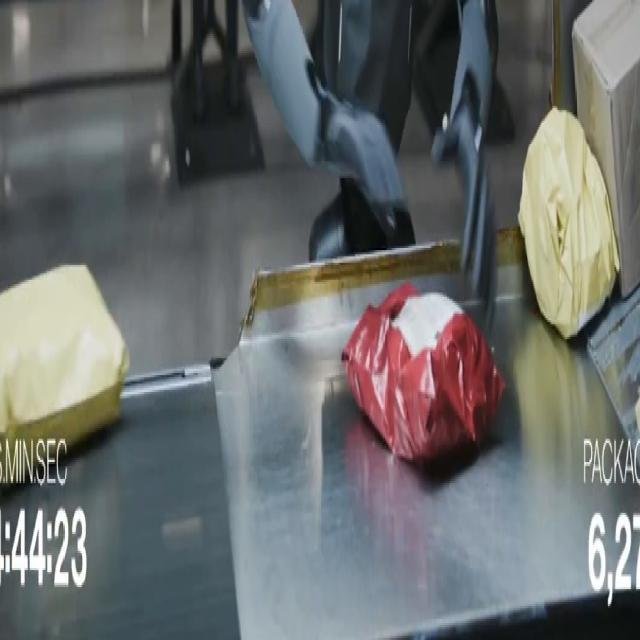package: (343, 284, 504, 464), (0, 265, 129, 449), (519, 109, 619, 339), (573, 0, 639, 296)
